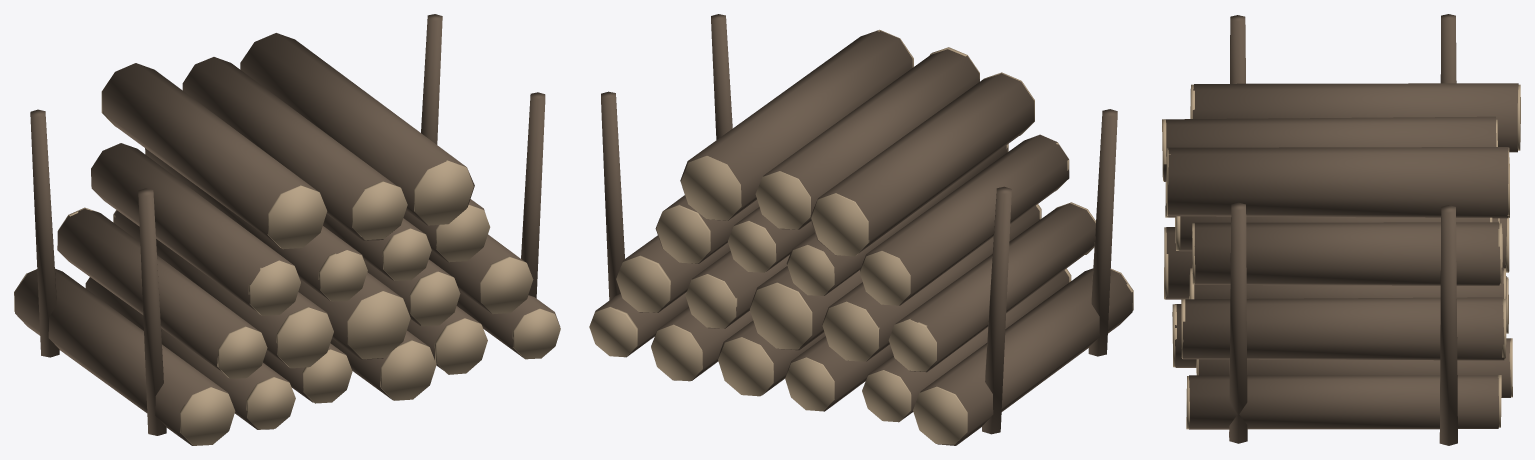
The model's file is firewood.glb.
The picture shows the model from 3 angles, left to right: view 1: azimuth 30°, elevation 25°; view 2: azimuth 150°, elevation 25°; view 3: azimuth 270°, elevation 25°; orthographic projection.
Parts seen in each view (by area): view 1: firewood; view 2: firewood; view 3: firewood.
Part boxes in pixels (box(x1,y1,x2,y2)): firewood: box(14, 14, 560, 445); firewood: box(589, 14, 1133, 445); firewood: box(1162, 14, 1520, 445).
Size of the model in its own units: 1.42 by 0.8048 by 1.09.
